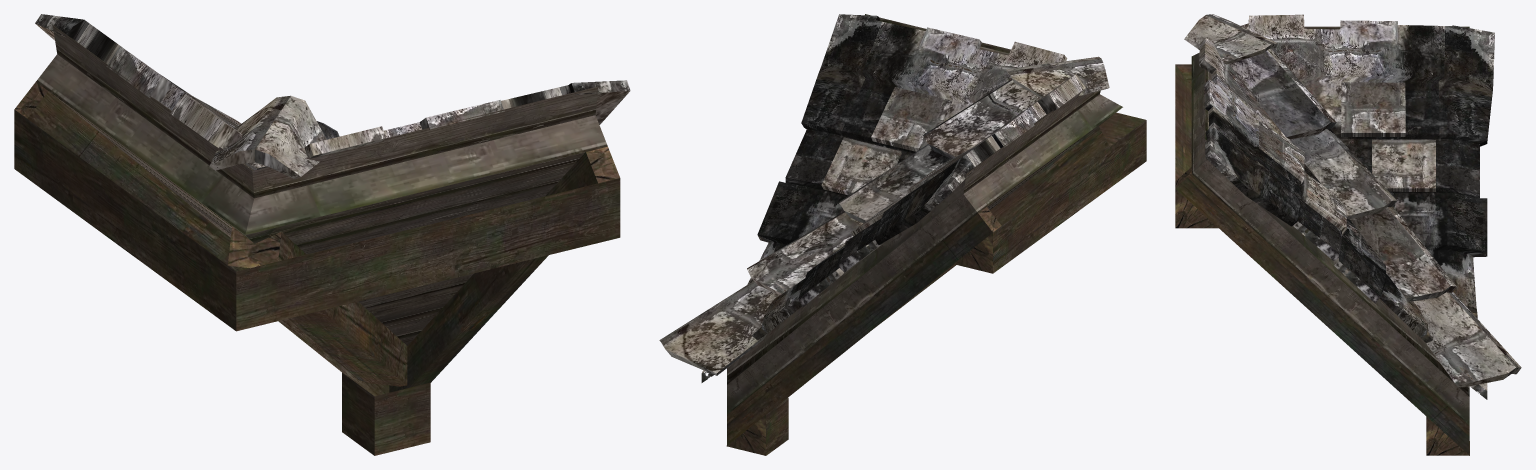
3 renders of one model, left to right at view 1: azimuth 30°, elevation 25°; view 2: azimuth 150°, elevation 25°; view 3: azimuth 270°, elevation 25°, orthographic. The views are drawn at different scales.
Visible parts, largest first — view 1: SM_T3_Roof_Med_Valley_LOD0; view 2: SM_T3_Roof_Med_Valley_LOD0; view 3: SM_T3_Roof_Med_Valley_LOD0.
Boxes of the visible parts, x1,y1,x2,y2 form: SM_T3_Roof_Med_Valley_LOD0: (14,14,630,455); SM_T3_Roof_Med_Valley_LOD0: (659,14,1146,455); SM_T3_Roof_Med_Valley_LOD0: (1175,14,1521,455).
Size of the model in its own units: 1.98 by 2.09 by 1.98.
Materials: 3 (3 with a texture image).
